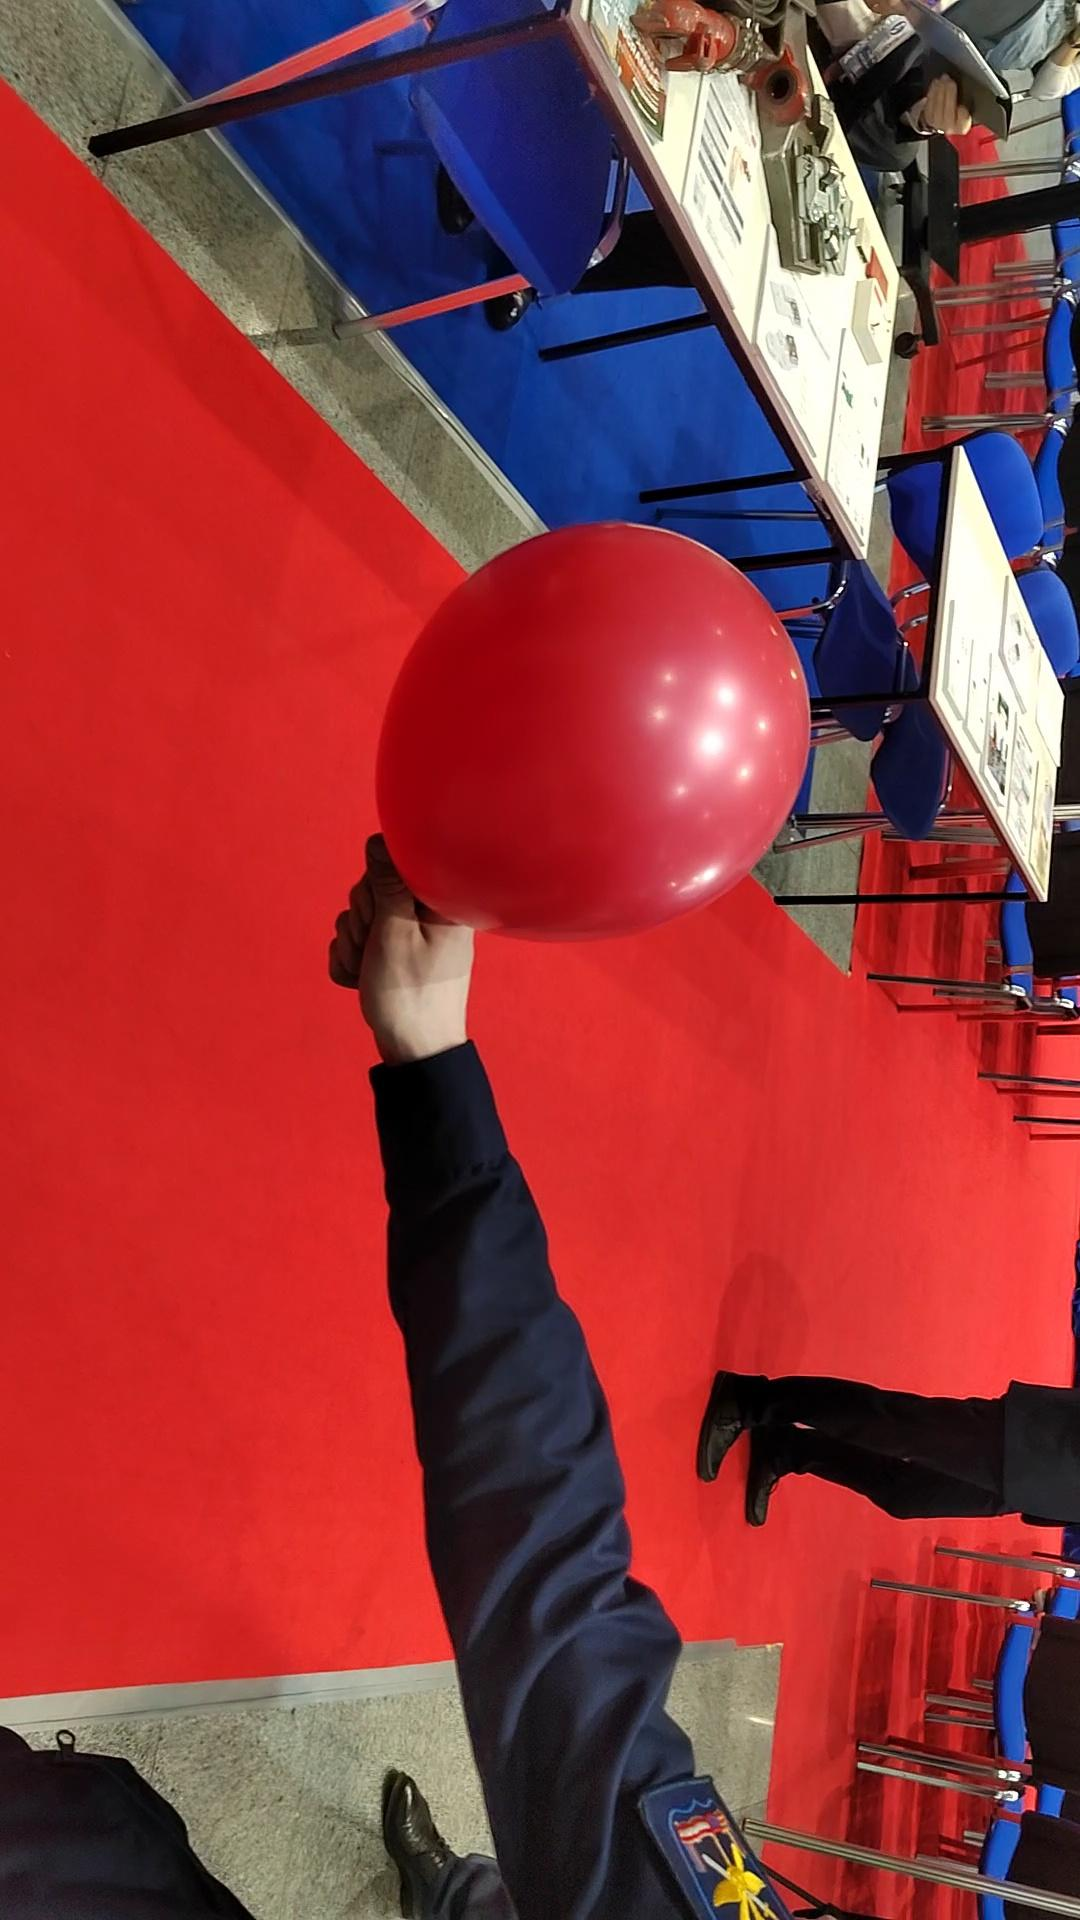red: (367, 513, 822, 947)
